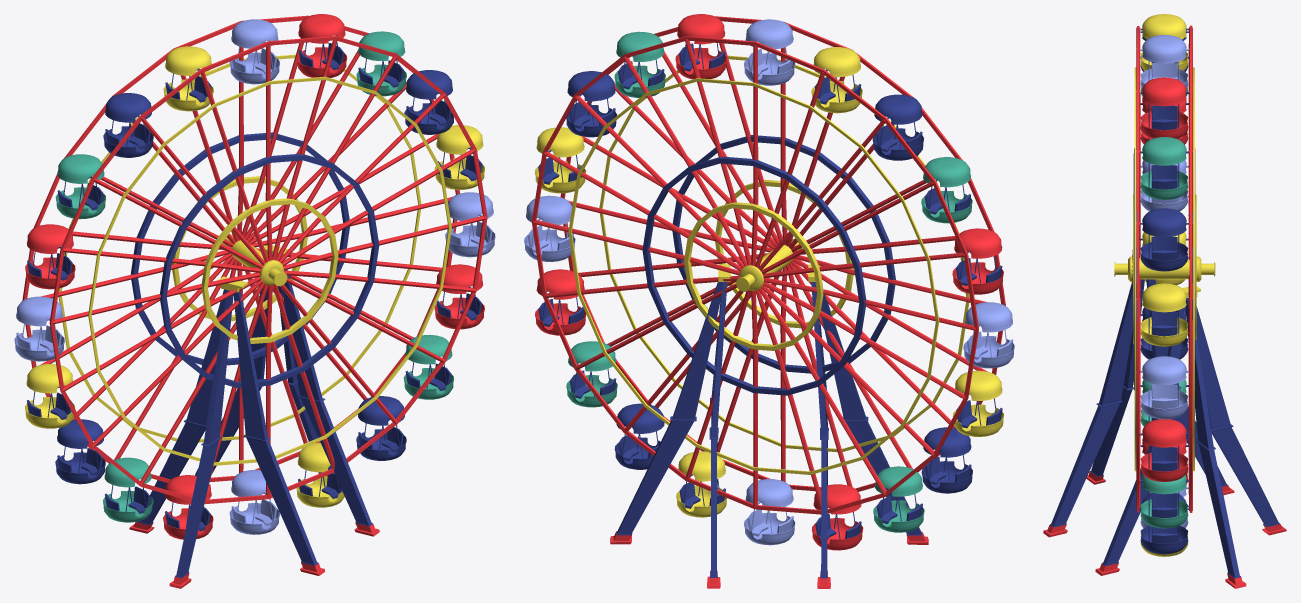
File: ruedade la fortuna.glb
3 renders of one model, left to right at view 1: azimuth 30°, elevation 25°; view 2: azimuth 150°, elevation 25°; view 3: azimuth 270°, elevation 25°, orthographic. The views are drawn at different scales.
Visible parts, largest first — view 1: koleso.297, koleso.560, koleso.443, koleso.451, koleso.411, koleso.419, koleso.435, koleso.427, koleso.403, koleso, koleso.539, koleso.395 (+10 smaller); view 2: koleso.297, koleso.560, koleso.467, koleso.451, koleso.443, koleso.403, koleso.419, koleso.435, koleso.427, koleso.411, koleso, koleso.395 (+10 smaller); view 3: koleso.560, koleso.297, koleso.515, koleso.507, koleso.523, koleso.499, koleso.532, koleso.539, koleso.491, koleso, koleso.259, koleso.395 (+4 smaller).
Part boxes in pixels (x1=…): koleso.297: x1=22, y1=15, x2=487, y2=504; koleso.560: x1=129, y1=245, x2=379, y2=588; koleso.443: x1=55, y1=419, x2=105, y2=484; koleso.451: x1=103, y1=457, x2=153, y2=522; koleso.411: x1=55, y1=154, x2=105, y2=219; koleso.419: x1=25, y1=224, x2=75, y2=289; koleso.435: x1=25, y1=363, x2=75, y2=428; koleso.427: x1=14, y1=296, x2=64, y2=361; koleso.403: x1=103, y1=93, x2=153, y2=157; koleso: x1=229, y1=19, x2=279, y2=84; koleso.539: x1=296, y1=14, x2=347, y2=77; koleso.395: x1=163, y1=46, x2=213, y2=111; koleso.297: x1=531, y1=16, x2=1005, y2=514; koleso.560: x1=610, y1=264, x2=928, y2=588; koleso.467: x1=744, y1=479, x2=795, y2=545; koleso.451: x1=873, y1=466, x2=924, y2=532; koleso.443: x1=921, y1=427, x2=972, y2=493; koleso.403: x1=872, y1=94, x2=923, y2=160; koleso.419: x1=952, y1=228, x2=1003, y2=294; koleso.435: x1=952, y1=370, x2=1004, y2=436; koleso.427: x1=963, y1=302, x2=1014, y2=368; koleso.411: x1=921, y1=157, x2=972, y2=223; koleso: x1=744, y1=19, x2=795, y2=85; koleso.395: x1=811, y1=47, x2=862, y2=113; koleso.560: x1=1043, y1=256, x2=1286, y2=588; koleso.297: x1=1114, y1=25, x2=1215, y2=512; koleso.515: x1=1140, y1=283, x2=1188, y2=346; koleso.507: x1=1140, y1=356, x2=1188, y2=419; koleso.523: x1=1140, y1=208, x2=1188, y2=271; koleso.499: x1=1140, y1=419, x2=1189, y2=481; koleso.532: x1=1140, y1=137, x2=1188, y2=199; koleso.539: x1=1140, y1=77, x2=1189, y2=138; koleso.491: x1=1140, y1=474, x2=1189, y2=528; koleso: x1=1140, y1=34, x2=1189, y2=88; koleso.259: x1=1140, y1=493, x2=1189, y2=554; koleso.395: x1=1140, y1=14, x2=1189, y2=70.
Bounding box in the file's own units: 1.32 × 1.34 × 0.6014.
